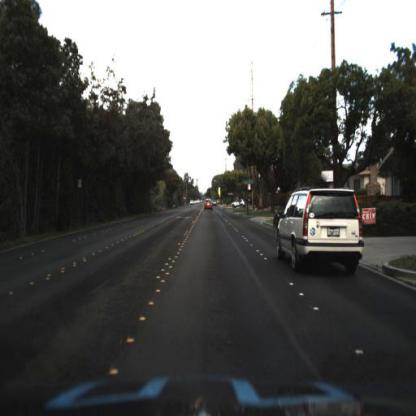car: (273, 180, 366, 279), (229, 195, 249, 212), (204, 195, 216, 217)
